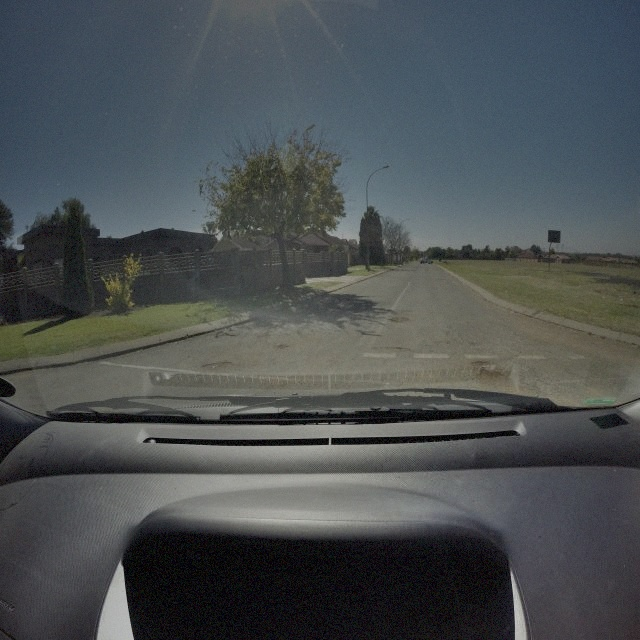pothole: (470, 356, 505, 386), (202, 360, 235, 376), (391, 314, 407, 324), (277, 341, 290, 352)
